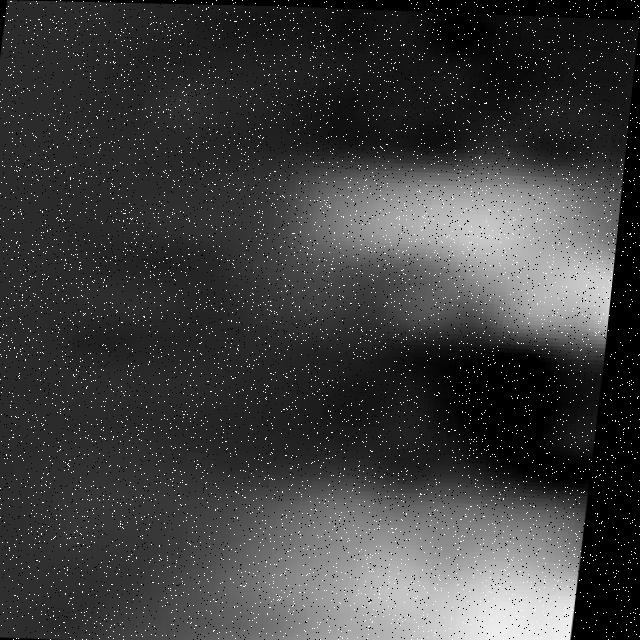person: (264, 129, 631, 385), (157, 483, 599, 640)
